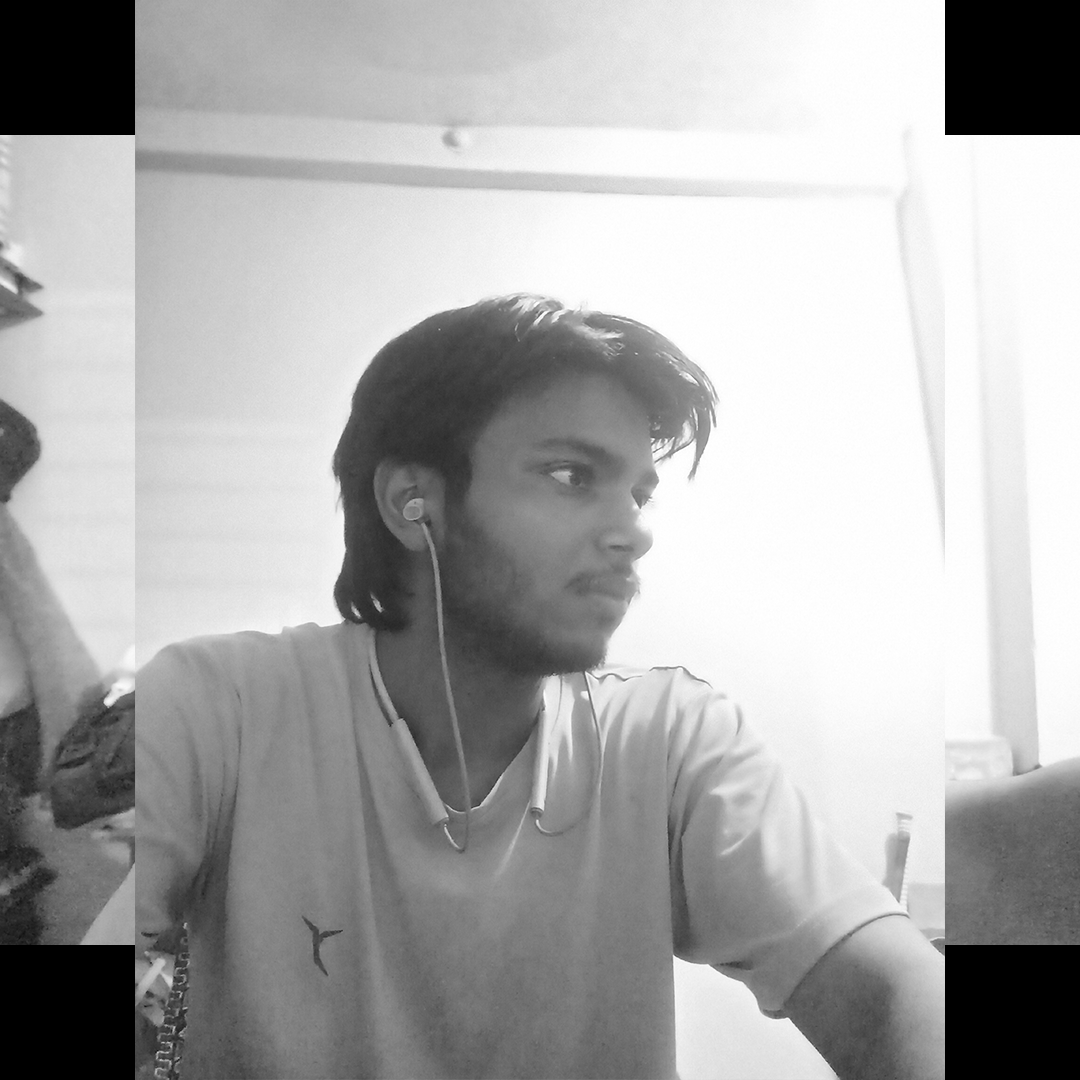distracted: (296, 172, 843, 853)
